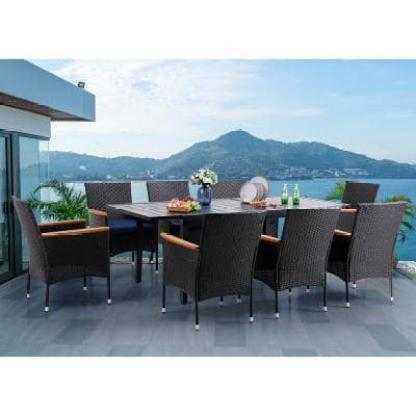table: (100, 189, 358, 305)
